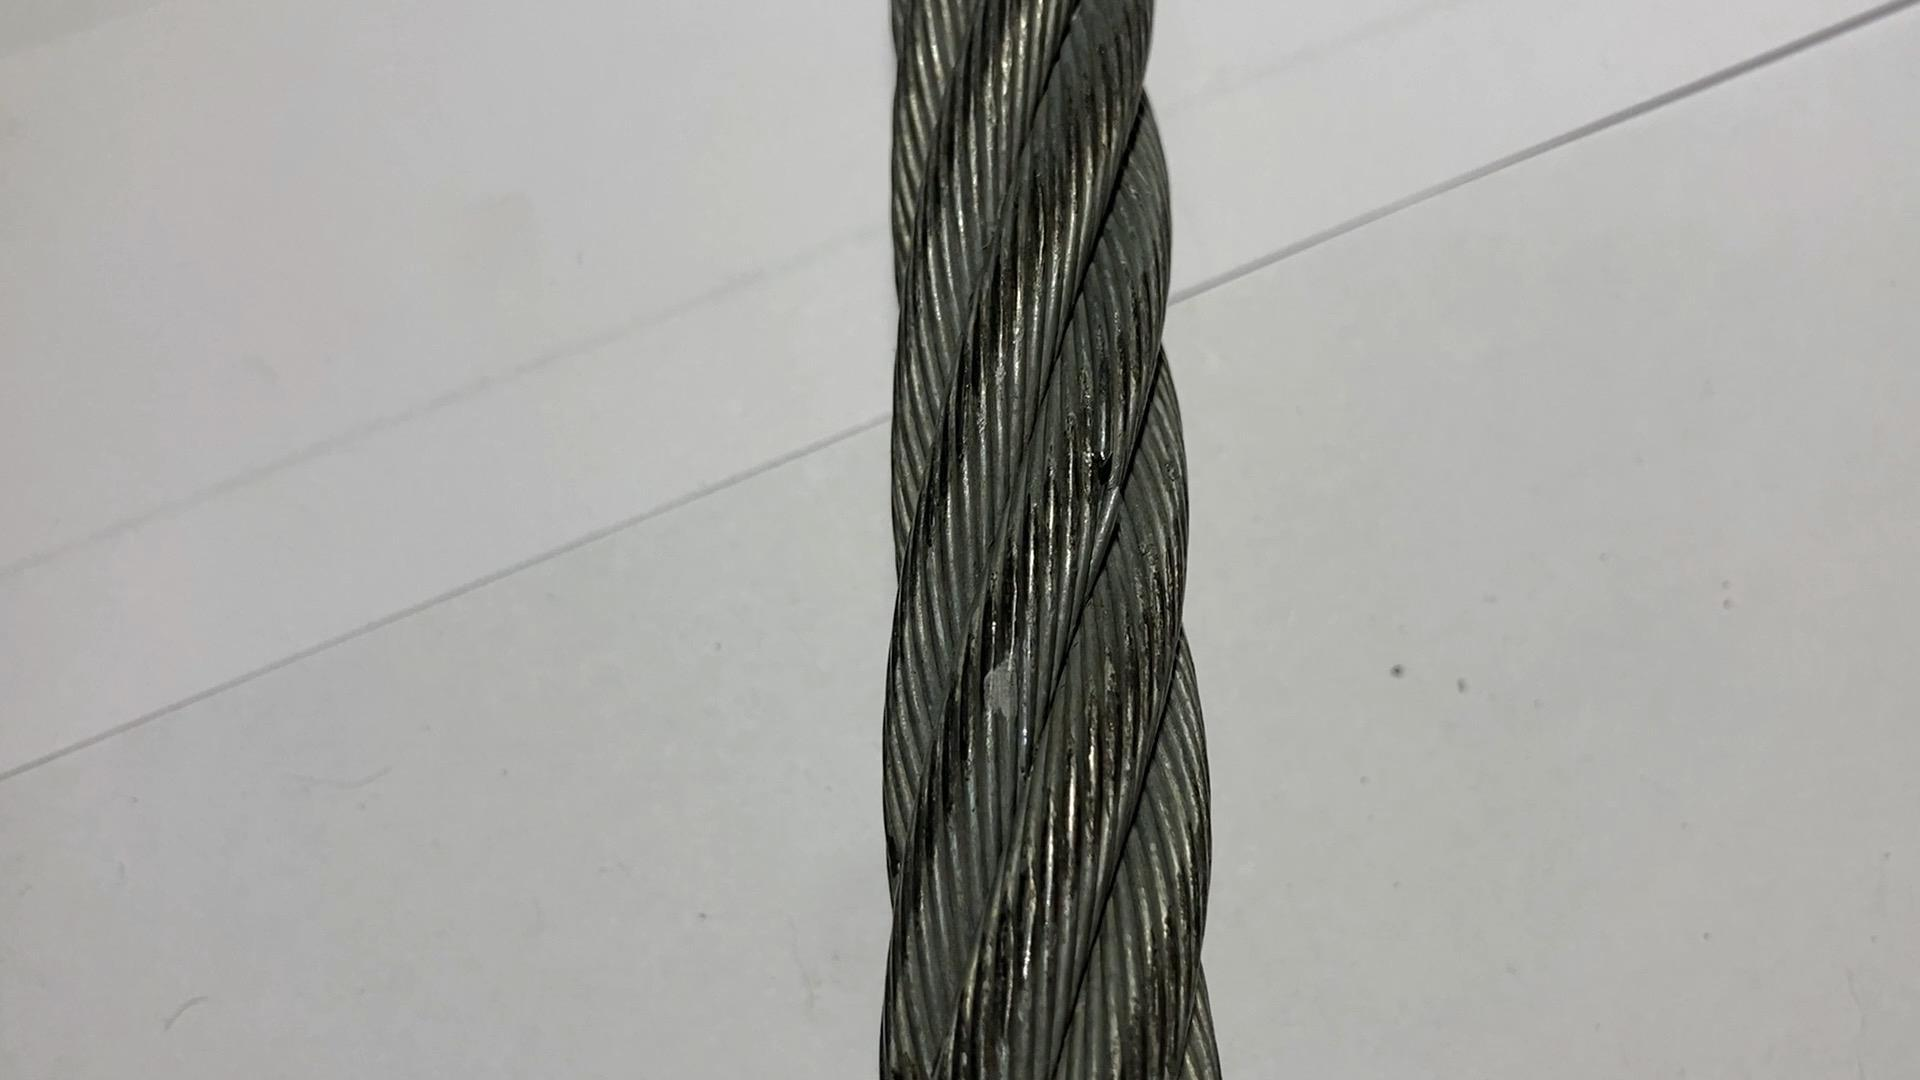break: (1065, 419, 1127, 504)
